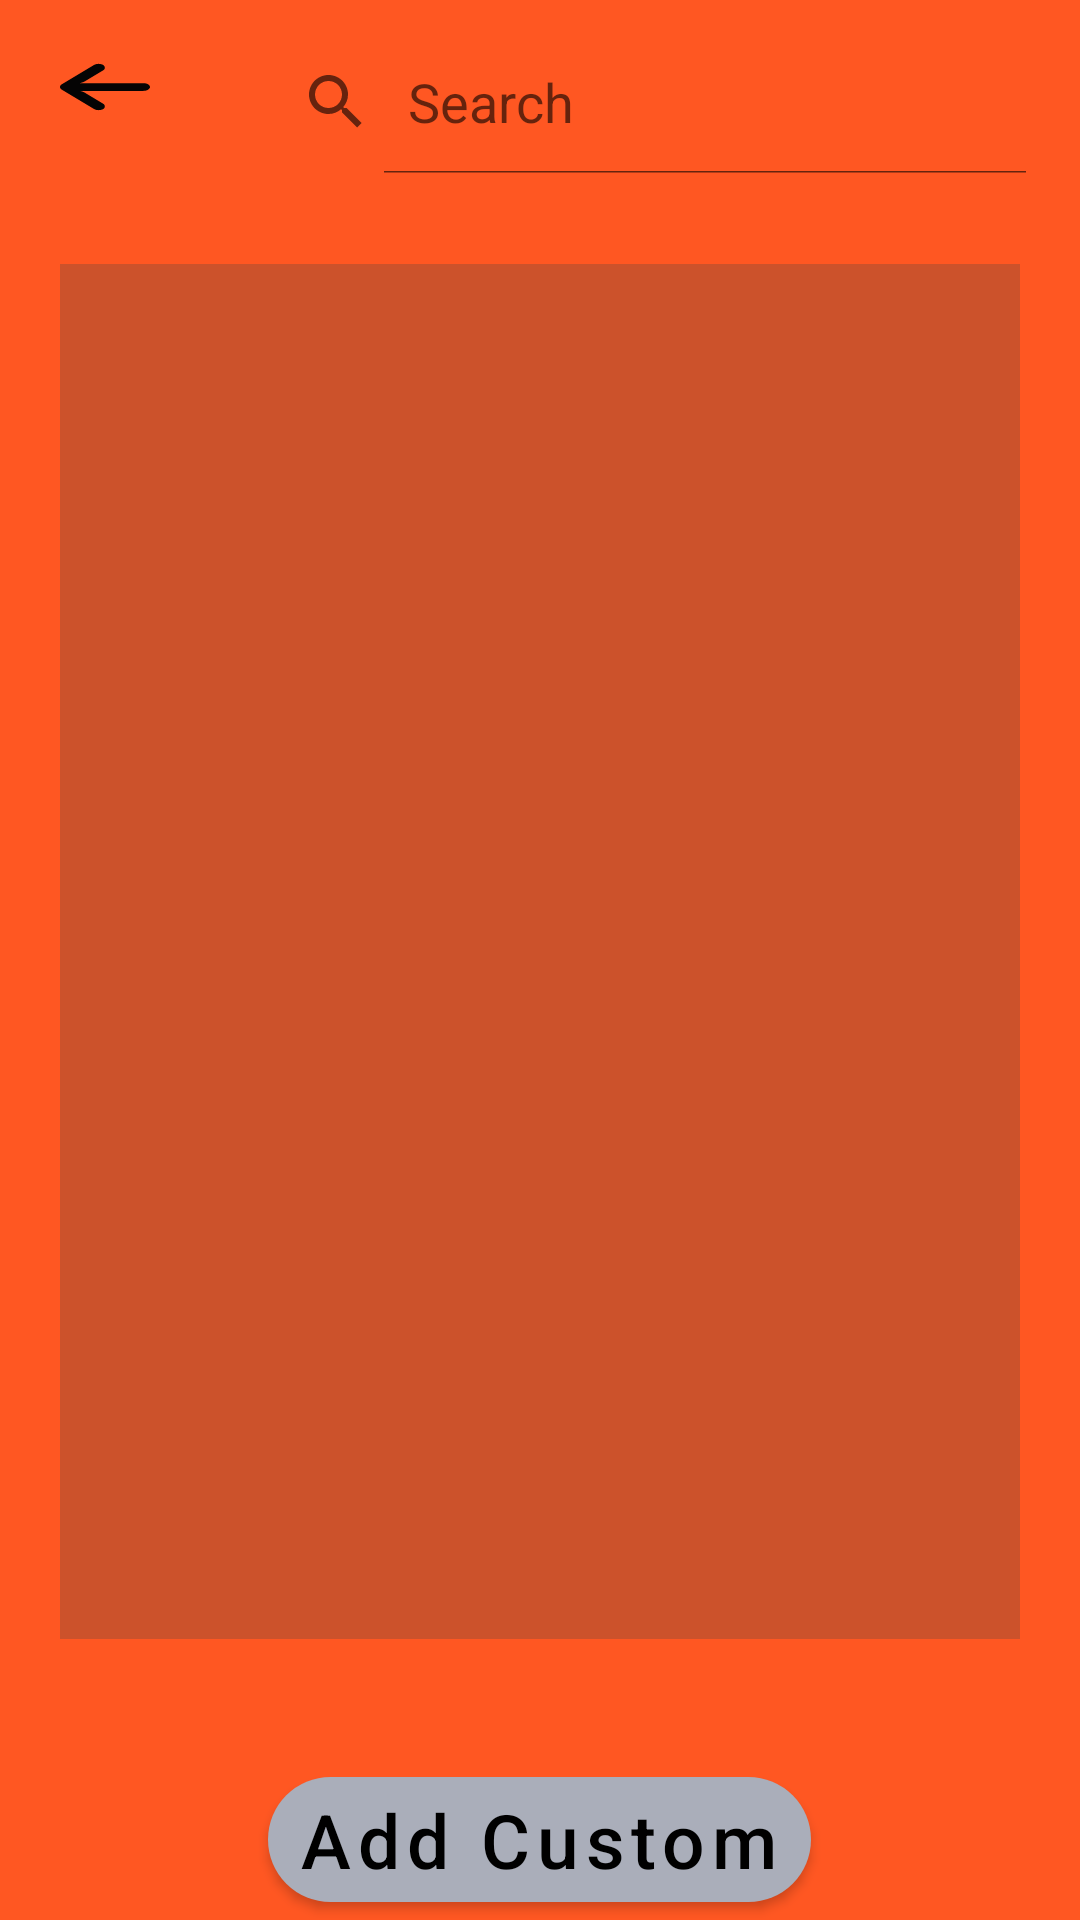

Screen size 1080w x 1920h. Icon name, then its center in pixels as point (x, y):
back arrow: point (105, 87)
